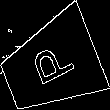P_SW: (24, 39, 77, 93)
